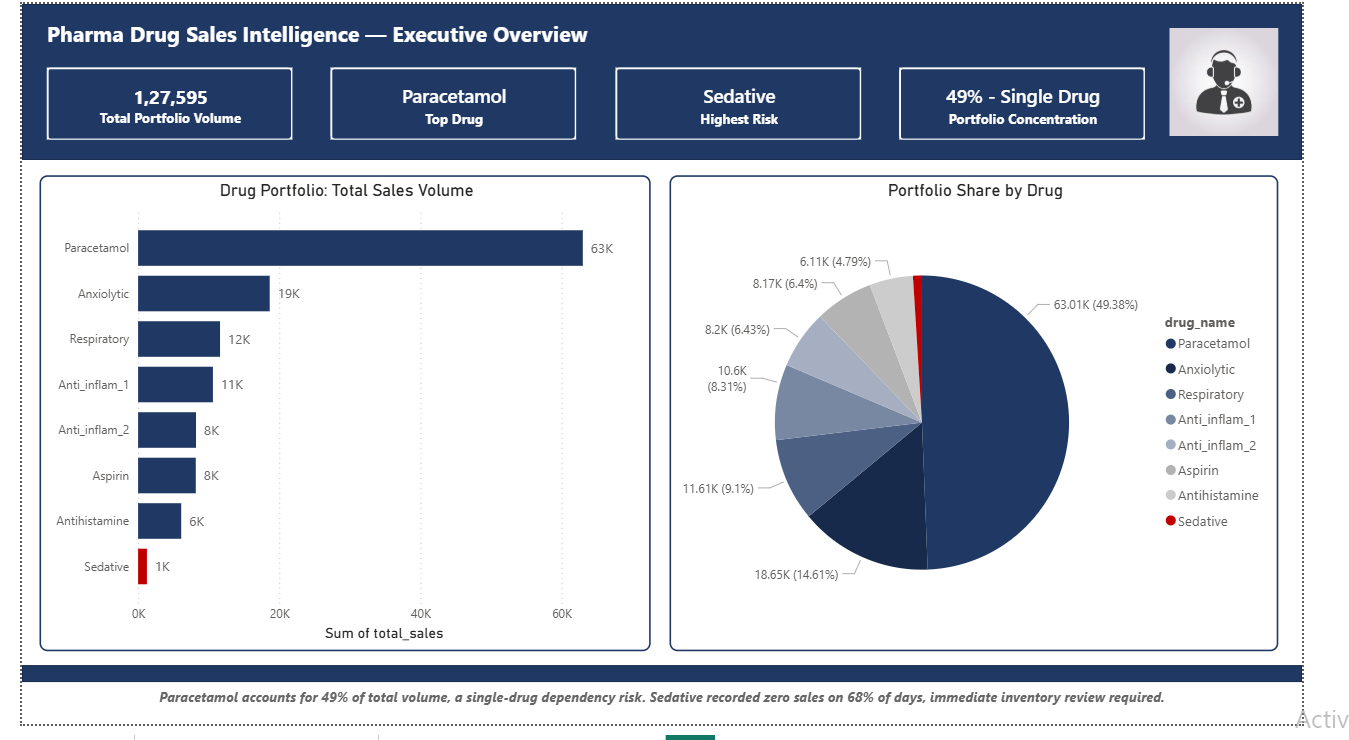

The dashboard page shown, as its layout file describes it:
{"tool":"powerbi","page":{"name":"Executive Overview","canvas":[1280,720],"ordinal":0},"visuals":[{"type":"shape","box":[0,0,1280,156.2],"z":0},{"type":"textbox","box":[20,10,1236.2,40],"z":1000},{"type":"cardVisual","fields":{"Data":["Sum(drug_profile.total_sales)"]},"box":[20,58.8,255,82.5],"z":2000},{"type":"clusteredBarChart","title":"Drug Portfolio: Total Sales Volume","fields":{"Category":["drug_profile.drug_name"],"Y":["Sum(drug_profile.total_sales)"]},"box":[17.5,171.2,611.2,476.2],"z":4000},{"type":"pieChart","title":"Portfolio Share by Drug","fields":{"Y":["Sum(drug_profile.total_sales)"],"Category":["drug_profile.drug_name"]},"box":[647.5,171.2,608.8,476.2],"z":5000},{"type":"textbox","box":[0,678.6,1280,41.4],"z":6000},{"type":"shape","box":[0,661.4,1280,17.1],"z":7000},{"type":"cardVisual","fields":{"Data":["drug_profile.Top Drug"]},"box":[304.2,58.8,255,82.5],"z":9001},{"type":"cardVisual","fields":{"Data":["drug_profile.Highest Risk"]},"box":[588.3,58.8,255,82.5],"z":9002},{"type":"cardVisual","fields":{"Data":["drug_profile.Portfolio Concentration"]},"box":[872.5,58.8,255,82.5],"z":9003},{"type":"image","box":[1147.5,0,108.8,156.2],"z":9004}]}

Visuals, with their boxes in screenshot pixels (x1, y1, x2, y2), scaled from the page's 1280x720 canvas onto the 1349x740 screenshot:
shape: 0 0 1348 161
textbox: 21 10 1324 51
cardVisual - Sum(drug_profile.total_sales): 21 60 290 145
"Drug Portfolio: Total Sales Volume" clusteredBarChart: 18 176 663 665
"Portfolio Share by Drug" pieChart: 682 176 1324 665
textbox: 0 697 1348 739
shape: 0 680 1348 697
cardVisual - drug_profile.Top Drug: 321 60 589 145
cardVisual - drug_profile.Highest Risk: 620 60 889 145
cardVisual - drug_profile.Portfolio Concentration: 920 60 1188 145
image: 1209 0 1324 161
